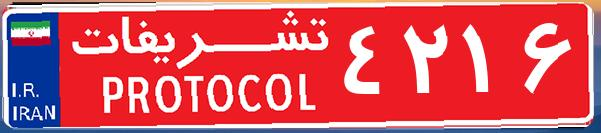1: (460, 20, 520, 115)
2: (400, 20, 460, 115)
4: (340, 20, 400, 115)
6: (520, 20, 580, 115)
تشریفات: (60, 8, 340, 125)
